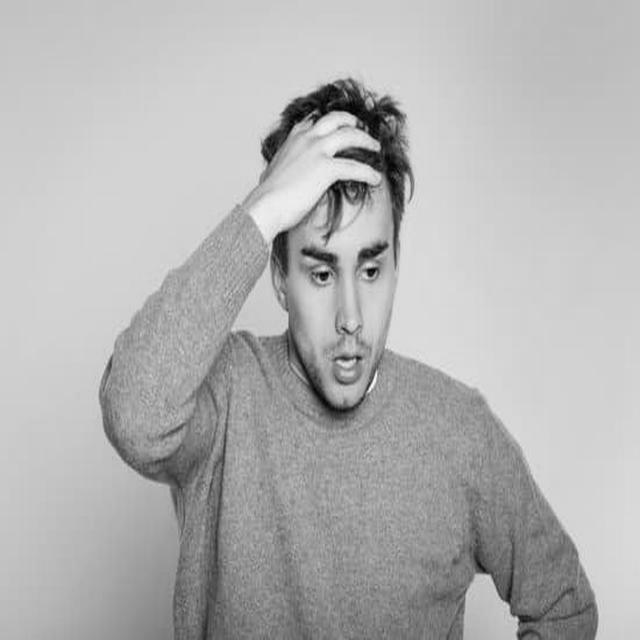Fear: (291, 191, 395, 409)
